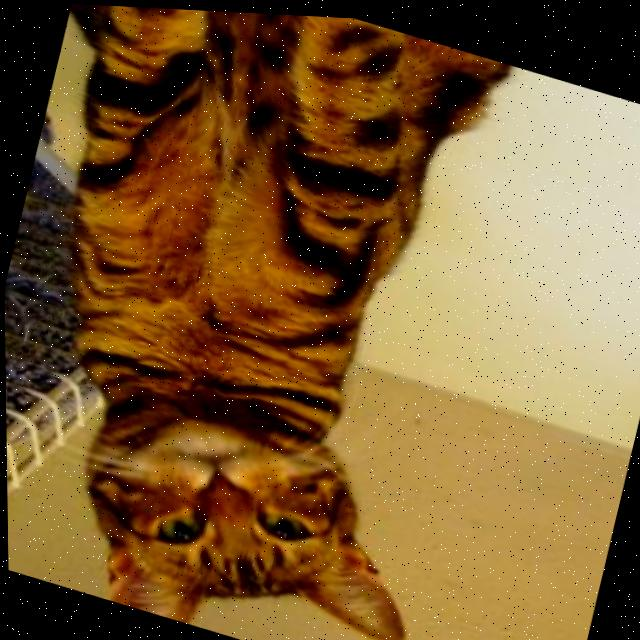Bengal: (0, 0, 556, 640)
